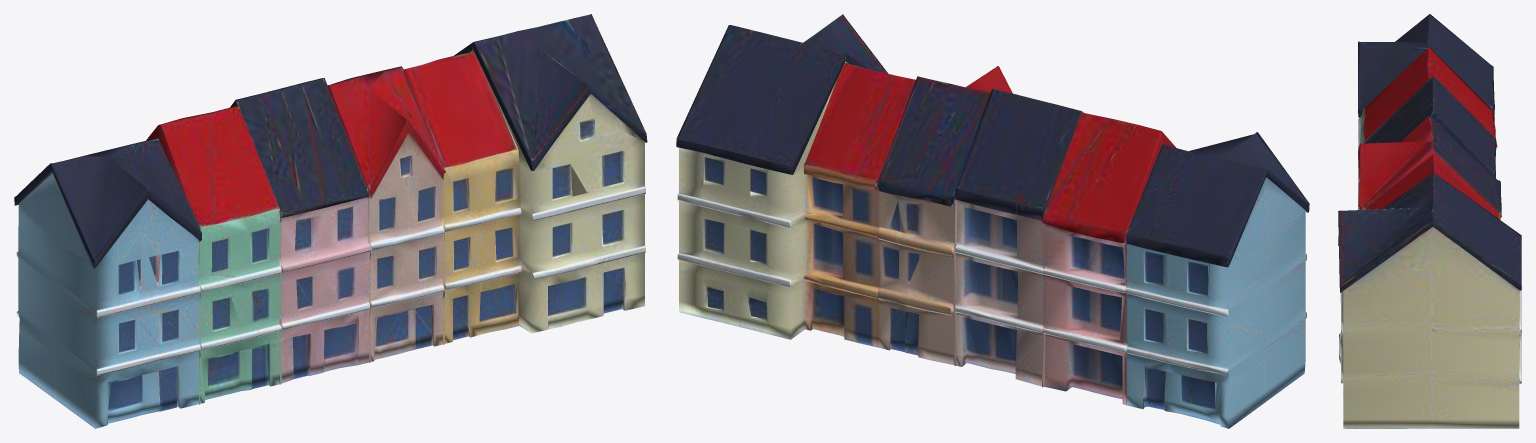
Rendered from 03-townhouses-row.glb.
The picture shows the model from 3 angles, left to right: view 1: azimuth 30°, elevation 25°; view 2: azimuth 150°, elevation 25°; view 3: azimuth 270°, elevation 25°; orthographic projection. The views are drawn at different scales.
Visible parts, largest first — view 1: geometry_0; view 2: geometry_0; view 3: geometry_0.
Boxes of the visible parts, x1,y1,x2,y2 form: geometry_0: [14, 14, 647, 428]; geometry_0: [676, 14, 1309, 428]; geometry_0: [1338, 14, 1521, 428].
Size of the model in its own units: 0.9536 by 0.4248 by 0.3369.
1 material, 1 textured.
